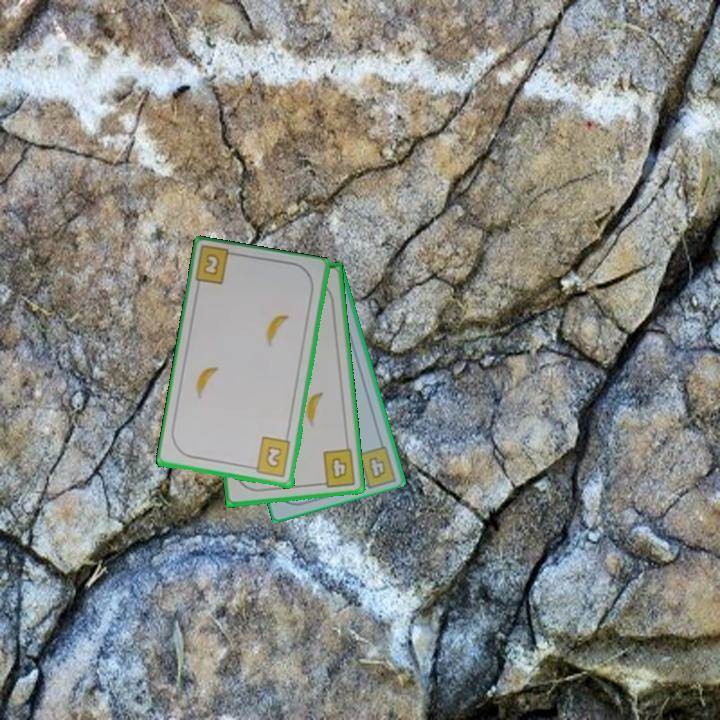2b: (192, 244, 242, 288), (247, 434, 294, 480)
4b: (315, 445, 359, 490), (365, 453, 389, 482)
